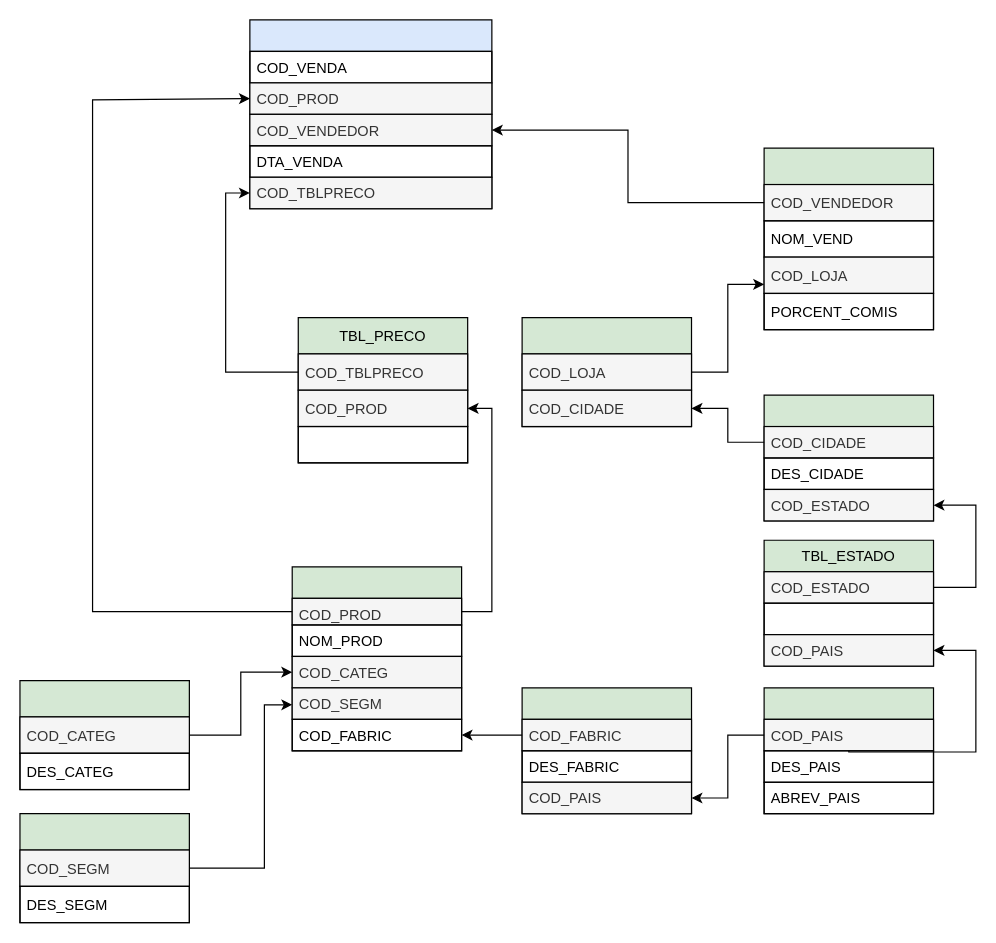
This 996x943 diagram has some shape labels left out. The box of each missing label's shape, as (x1, y1, x2, y2) in pixels:
DES_ESTADO: (763, 602, 934, 635)
PRECO_PROD: (297, 425, 468, 463)
TBL_CATEGORIA: (19, 679, 189, 790)
TBL_CIDADE: (763, 394, 934, 521)
TBL_FABRICANTE: (521, 687, 692, 814)
TBL_LOJAS: (521, 316, 692, 427)
TBL_PAIS: (763, 687, 934, 814)
TBL_PRODUTOS: (291, 566, 462, 751)
TBL_SEGMENTO: (19, 813, 189, 923)
TBL_VENDA: (249, 19, 492, 209)
TBL_VENDEDOR: (763, 147, 934, 330)
